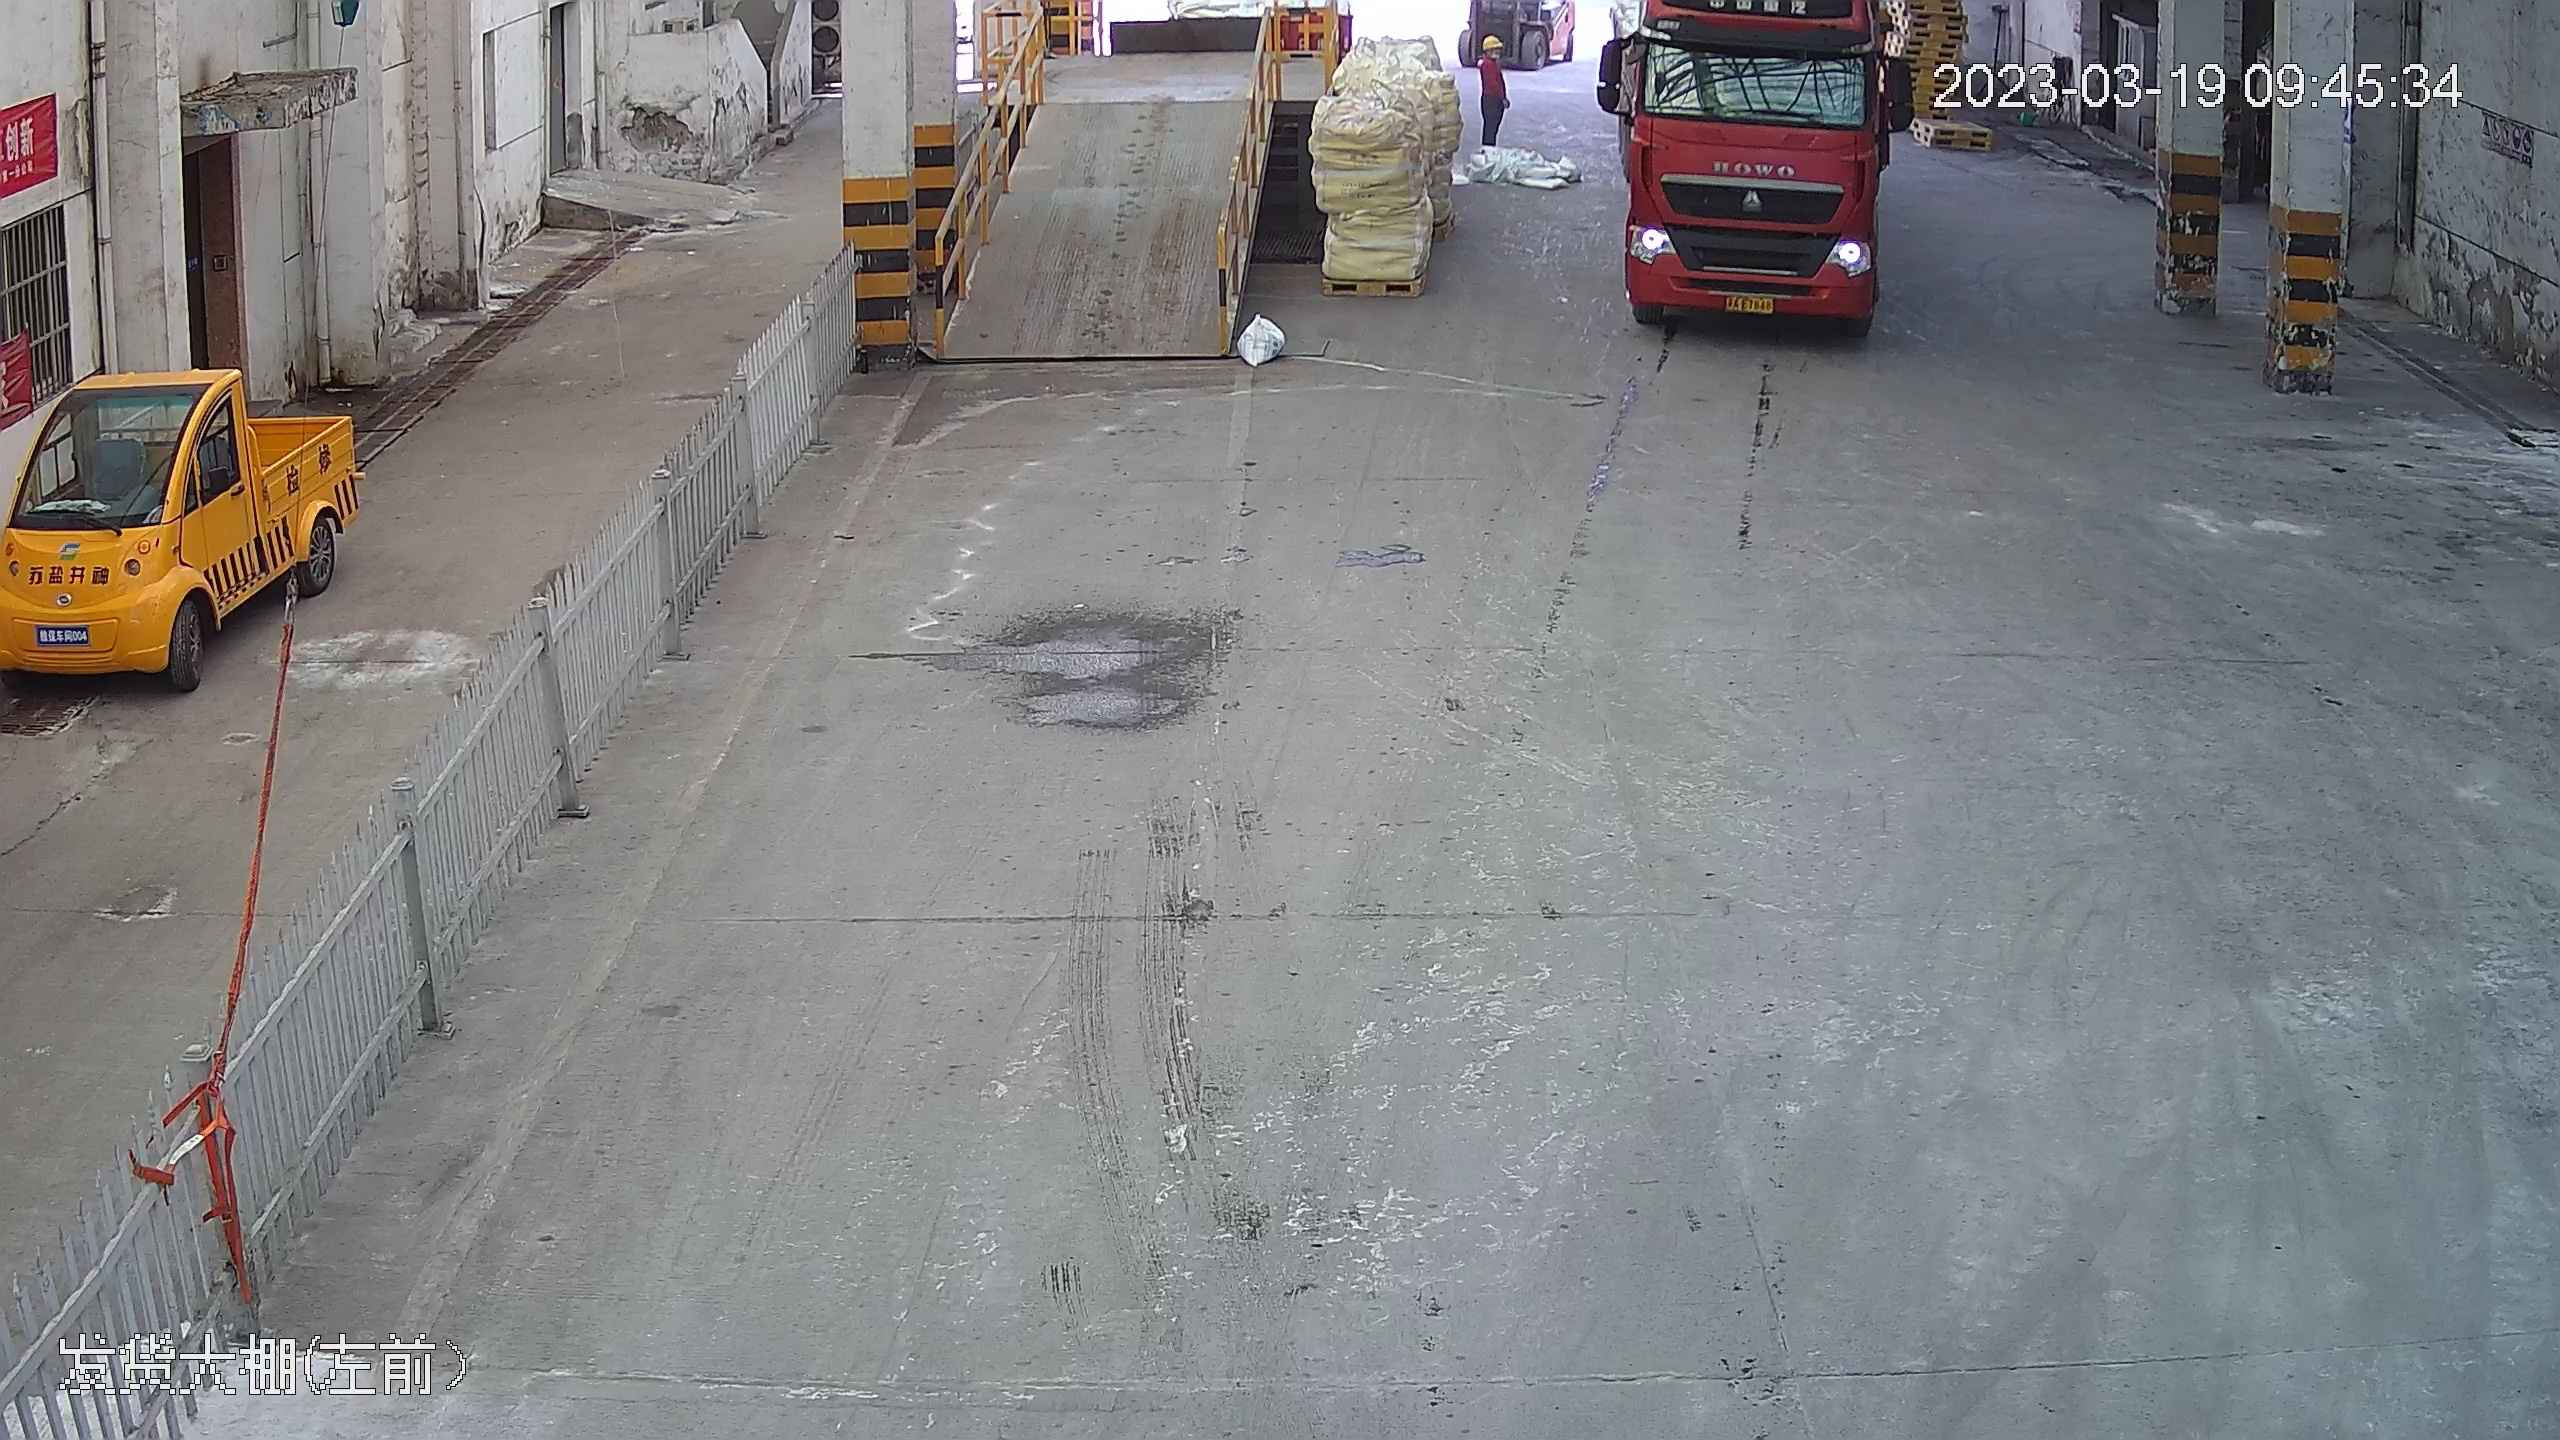head: (1476, 36, 1506, 76)
helmet: (1480, 33, 1501, 54)
people: (1472, 40, 1510, 151)
truck: (1598, 1, 1929, 335)
